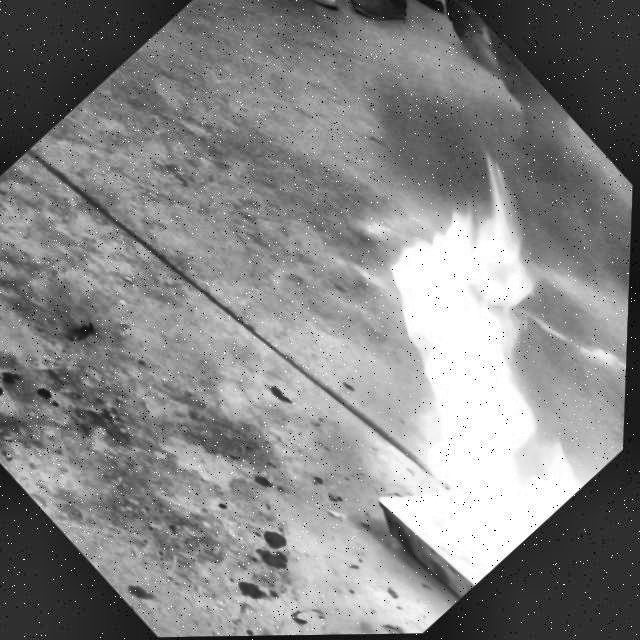Fire: (249, 151, 635, 598)
